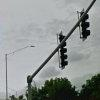Traffic light: (40, 5, 98, 73)
